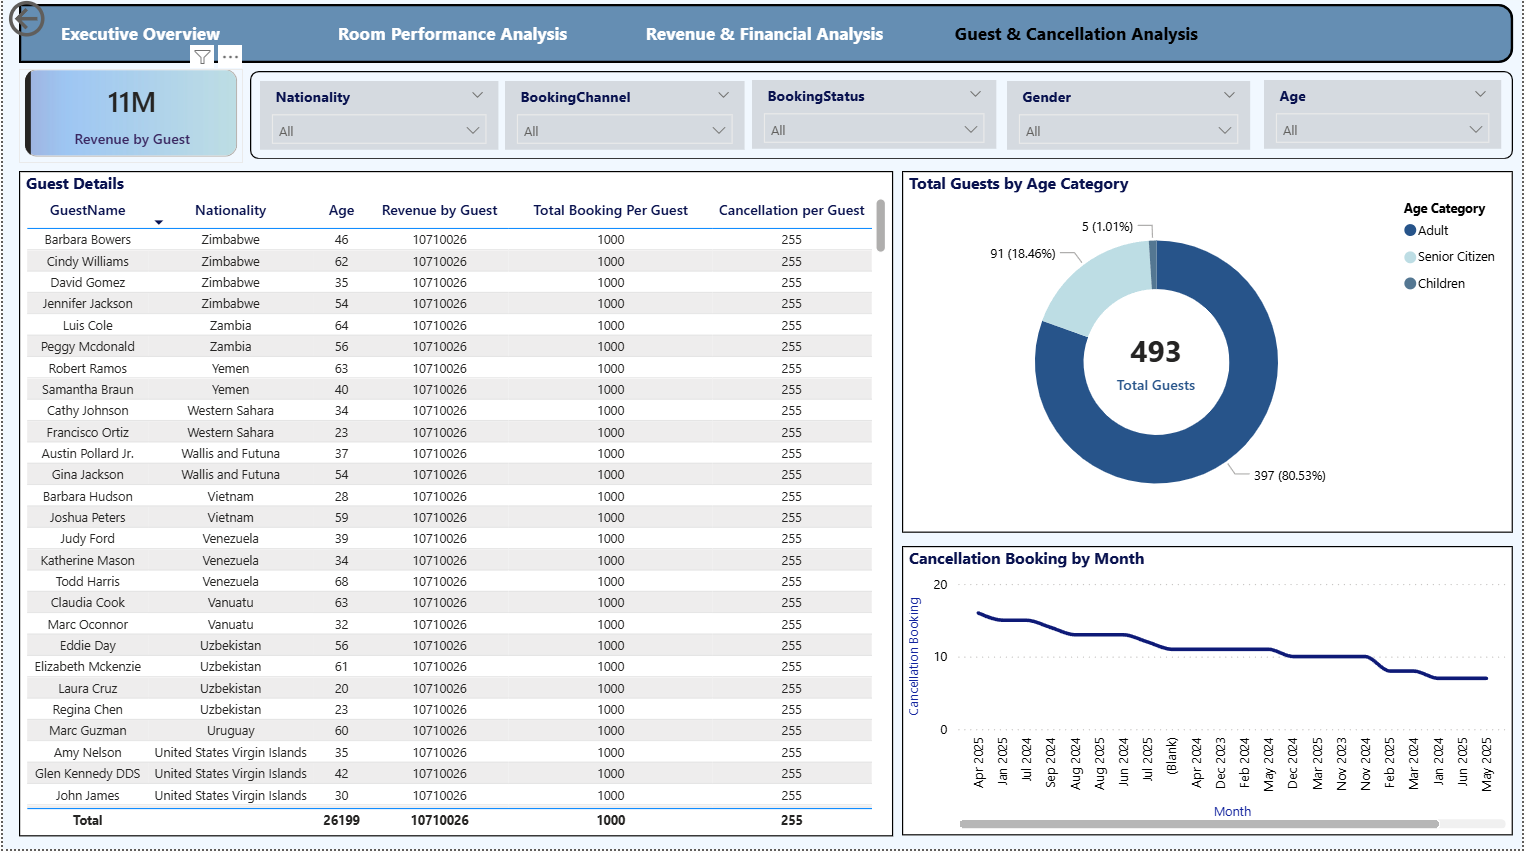

The page's visual inventory and layout, read from the dashboard file:
{"tool":"powerbi","page":{"name":"Guest & Cancellation Analysis","canvas":[1280,720],"ordinal":4},"visuals":[{"type":"shape","box":[208.4,64.1,1064.8,74.3],"z":0},{"type":"shape","box":[13.5,7.6,1259.7,49.8],"z":1000},{"type":"donutChart","fields":{"Y":["Guests.Total Guests"],"Category":["Guests.Age Category"]},"box":[757.7,148.5,515.1,305.1],"z":2000},{"type":"lineChart","fields":{"Category":["DateTable.Month"],"Y":["Bookings.Cancellation Booking"]},"box":[757.7,464.4,515.1,244.4],"z":3000},{"type":"cardVisual","fields":{"Data":["Guests.Revenue by Guest"]},"box":[13.5,62.4,189,79.3],"z":4000},{"type":"tableEx","title":"Guest Details","fields":{"Values":["Guests.GuestName","Guests.Nationality","Sum(Guests.Age)","Guests.Revenue by Guest","Bookings.Total Booking Per Guest","Bookings.Cancellation per Guest"]},"box":[13.5,148.4,736.9,560.7],"z":5000},{"type":"actionButton","box":[0,0,100,40],"z":6000},{"type":"slicer","fields":{"Values":["Guests.Gender"]},"box":[846.3,72.6,205,58.2],"z":7000},{"type":"slicer","fields":{"Values":["Guests.Nationality"]},"box":[216.8,72.6,200.8,58.2],"z":8000},{"type":"slicer","fields":{"Values":["Bookings.BookingChannel"]},"box":[423.6,72.6,201.7,58.2],"z":9000},{"type":"slicer","fields":{"Values":["Bookings.BookingStatus"]},"box":[631.1,71.7,205.9,58.2],"z":10000},{"type":"slicer","fields":{"Values":["Guests.Age"]},"box":[1063.2,71.7,200,58.2],"z":11000},{"type":"pageNavigator","box":[13.5,6.8,1259.7,50.6],"z":12000},{"type":"card","fields":{"Values":["Guests.Total Guests"]},"box":[911.3,276.8,121.5,64.1],"z":13000}]}

Visuals, with their boxes on the page's 1280x720 design canvas (x1, y1, x2, y2). These are canvas units, not pixel positions in the 1526x853 screenshot, which may show the page scaled, cropped or inside an application window:
shape: <region>208, 64, 1273, 138</region>
shape: <region>14, 8, 1273, 57</region>
donutChart - Guests.Total Guests x Guests.Age Category: <region>758, 148, 1273, 454</region>
lineChart - DateTable.Month x Bookings.Cancellation Booking: <region>758, 464, 1273, 709</region>
cardVisual - Guests.Revenue by Guest: <region>14, 62, 202, 142</region>
"Guest Details" tableEx: <region>14, 148, 750, 709</region>
actionButton: <region>0, 0, 100, 40</region>
slicer - Guests.Gender: <region>846, 73, 1051, 131</region>
slicer - Guests.Nationality: <region>217, 73, 418, 131</region>
slicer - Bookings.BookingChannel: <region>424, 73, 625, 131</region>
slicer - Bookings.BookingStatus: <region>631, 72, 837, 130</region>
slicer - Guests.Age: <region>1063, 72, 1263, 130</region>
pageNavigator: <region>14, 7, 1273, 57</region>
card - Guests.Total Guests: <region>911, 277, 1033, 341</region>
